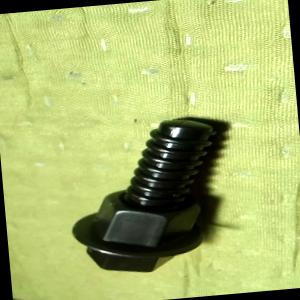parafuso: (60, 113, 230, 278)
